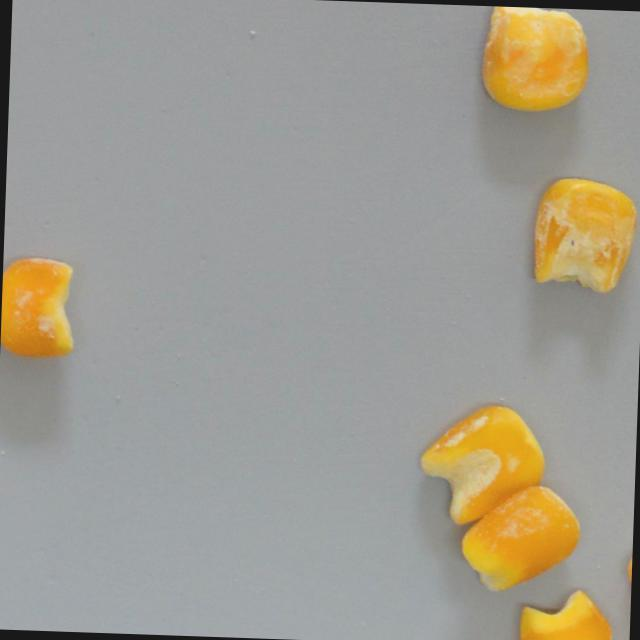dañado: (453, 481, 587, 597), (474, 5, 597, 121), (0, 253, 81, 366), (513, 586, 616, 640)
pelicula: (416, 399, 549, 528)
punto_negro: (525, 170, 640, 303)
